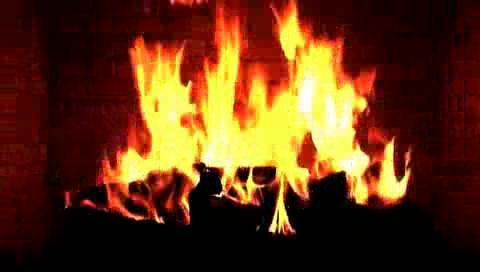fire: (73, 0, 415, 229)
